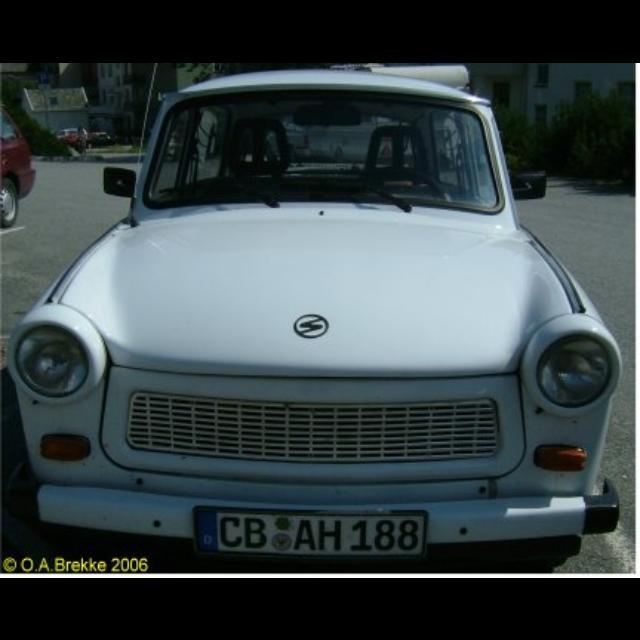license-plates: (195, 509, 424, 558)
